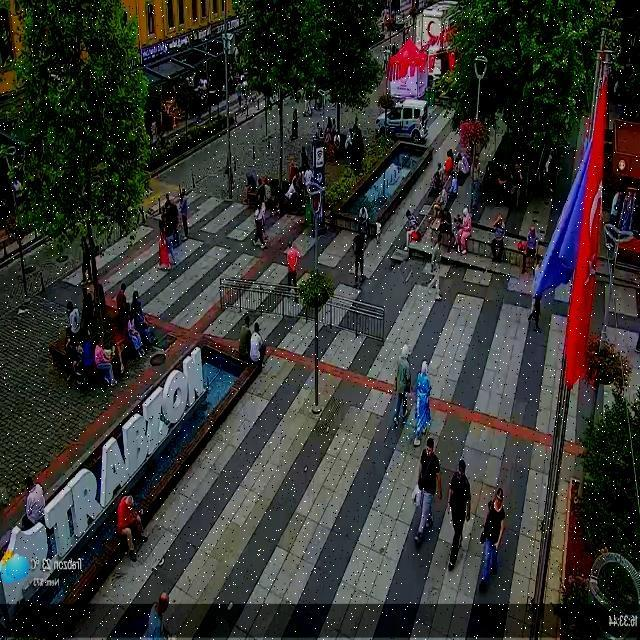Car: (374, 99, 430, 142)
